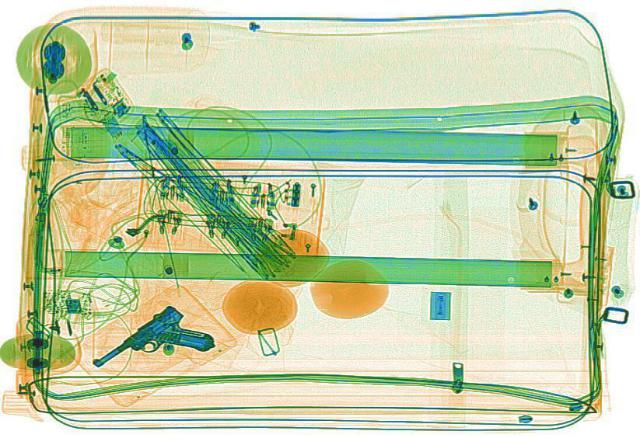Gun: (84, 302, 224, 391)
